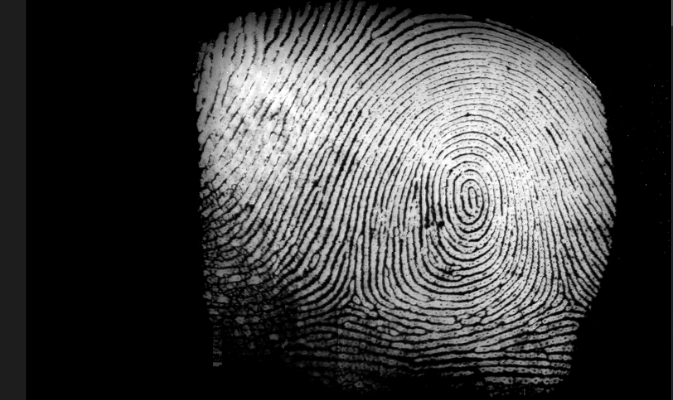deltas: (320, 266, 386, 320), (541, 268, 587, 318)
nucleo: (449, 173, 492, 223)
